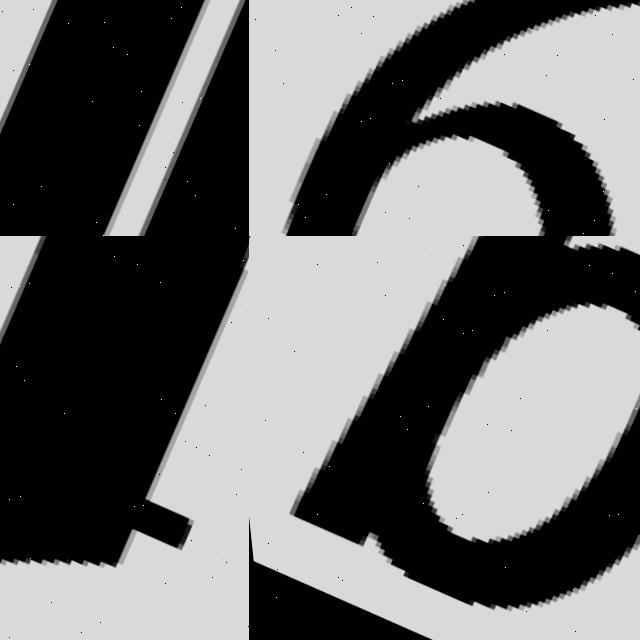9: (249, 0, 640, 236)
M: (0, 0, 249, 236)
Q: (249, 236, 640, 640)
T: (0, 236, 249, 640)
